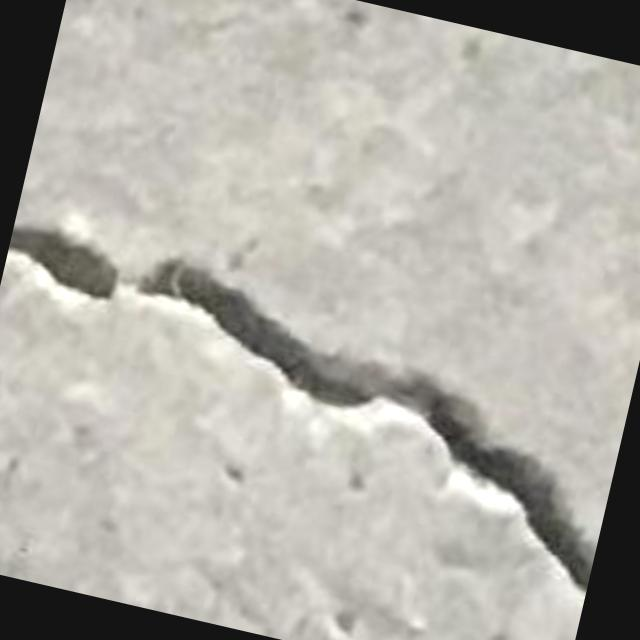crack: (137, 259, 592, 582)
